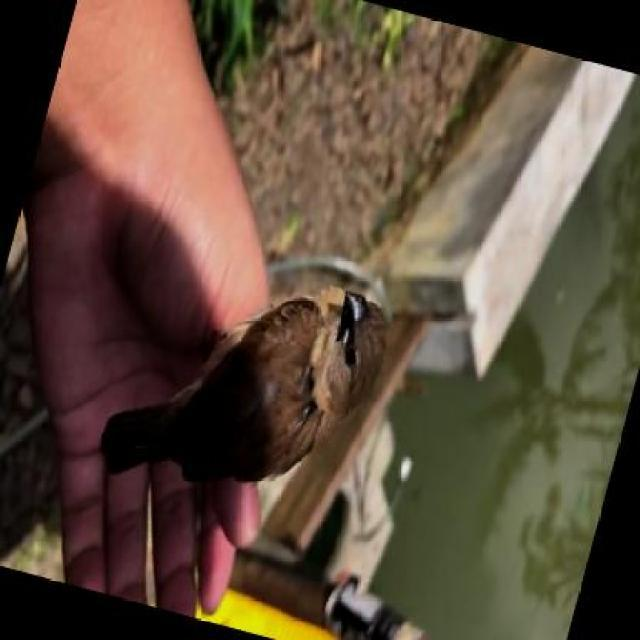Bird: (101, 244, 413, 544)
